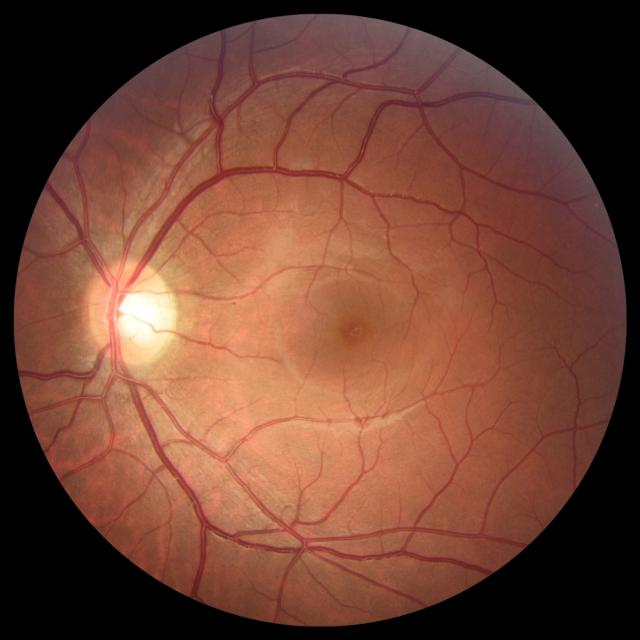OC: (110, 287, 160, 344)
OD: (87, 262, 175, 365)
